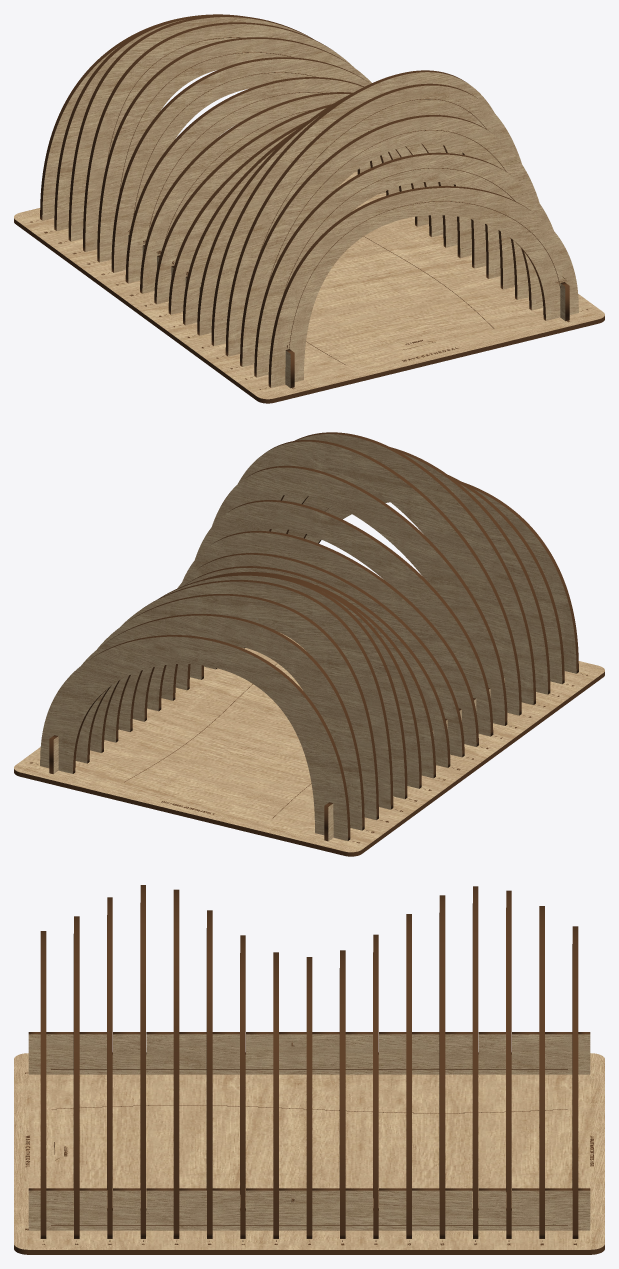
The model's file is wave-cathedral.glb.
3 views of the same model, one above another, from view 1: azimuth 30°, elevation 25°; view 2: azimuth 150°, elevation 25°; view 3: azimuth 270°, elevation 25° (orthographic). The views are drawn at different scales.
Parts seen in each view (by area): view 1: body19, body0, body2, body3, body1, body11, body12, body10, body13, body4, body9, body14 (+6 smaller); view 2: body19, body16, body5, body4, body6, body15, body14, body7, body13, body3, body8, body12 (+6 smaller); view 3: body19, body18, body17, body4, body12, body16, body0, body3, body13, body14, body2, body15 (+9 smaller).
Boxes of the visible parts, <box> form: body19: <box>14,172,604,403</box>; body0: <box>268,186,578,387</box>; body2: <box>240,115,539,366</box>; body3: <box>225,83,521,356</box>; body1: <box>254,152,553,377</box>; body11: <box>111,57,399,272</box>; body12: <box>97,37,385,262</box>; body10: <box>125,77,411,283</box>; body13: <box>83,22,370,251</box>; body4: <box>211,70,500,345</box>; body9: <box>140,92,428,293</box>; body14: <box>68,15,357,241</box>; body19: <box>14,633,604,856</box>; body16: <box>40,635,350,840</box>; body5: <box>212,465,507,725</box>; body4: <box>235,440,521,715</box>; body6: <box>195,500,493,736</box>; body15: <box>75,614,364,830</box>; body14: <box>90,594,378,820</box>; body7: <box>182,531,478,746</box>; body13: <box>104,580,393,809</box>; body3: <box>261,432,535,704</box>; body8: <box>175,553,464,757</box>; body12: <box>118,574,407,799</box>; body19: <box>14,1053,604,1254</box>; body18: <box>28,1188,590,1230</box>; body17: <box>28,1032,590,1074</box>; body4: <box>173,889,179,1238</box>; body12: <box>439,895,445,1238</box>; body16: <box>572,926,578,1238</box>; body0: <box>40,931,46,1238</box>; body3: <box>140,885,145,1238</box>; body13: <box>473,886,478,1238</box>; body14: <box>506,890,511,1238</box>; body2: <box>107,897,112,1238</box>; body15: <box>539,906,544,1238</box>.
Size of the model in its own units: 0.252 by 0.1594 by 0.32.
Materials: 3 (1 with a texture image).
